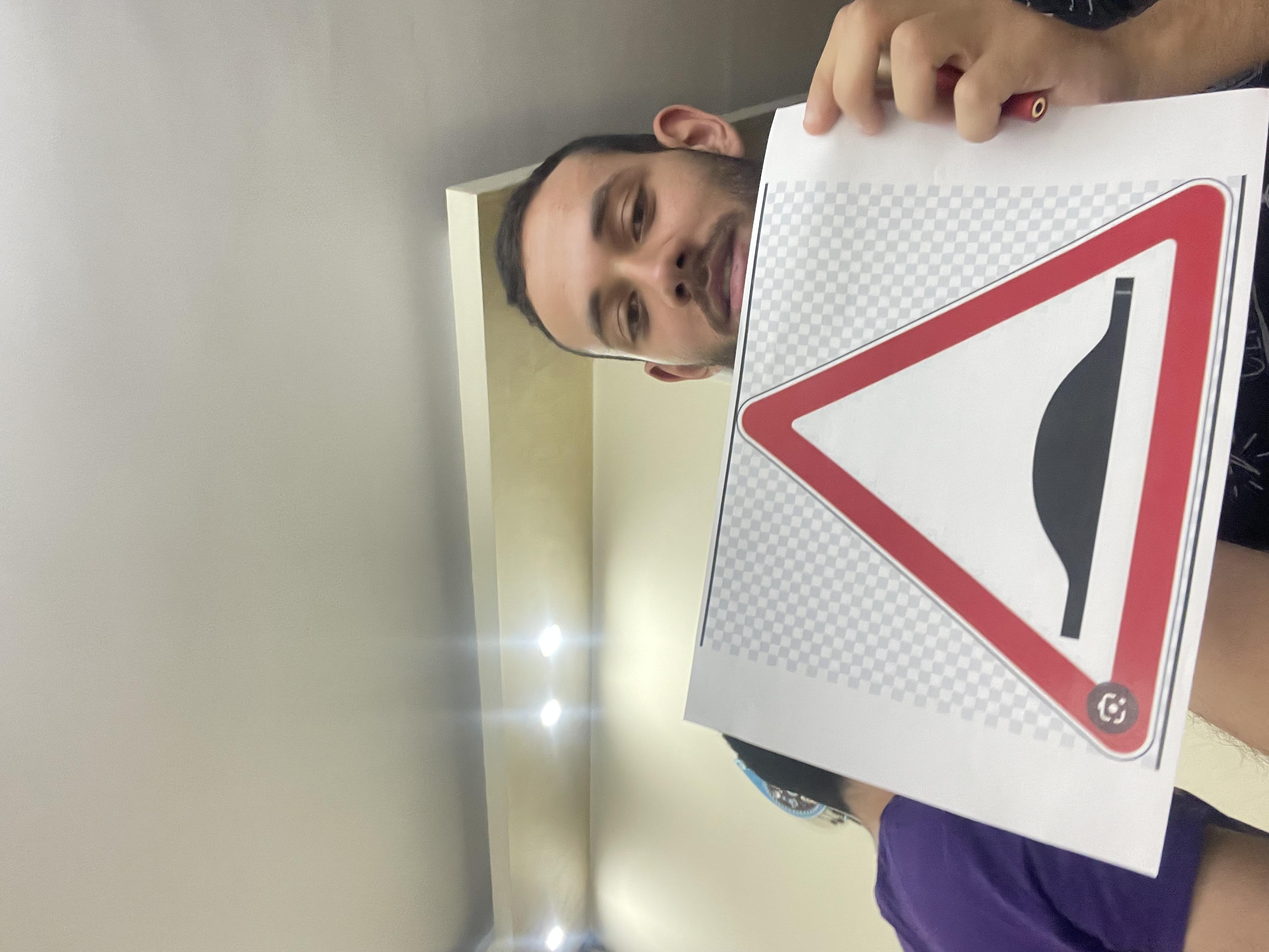Hump: (244, 555, 1042, 927)
